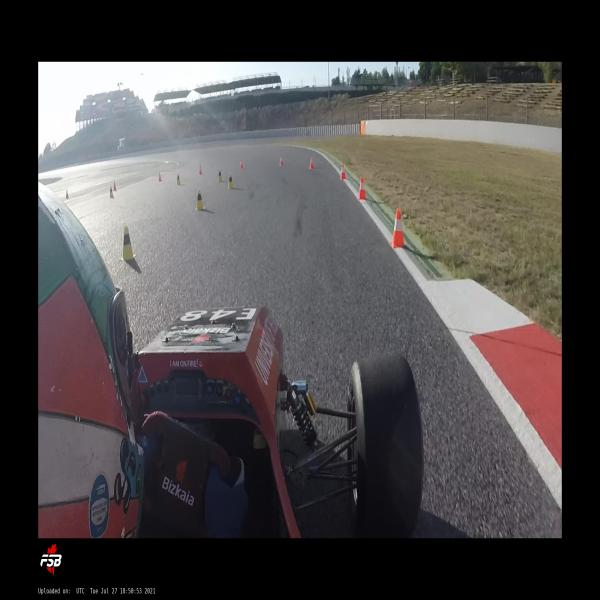orange_cone: (389, 208, 405, 249), (358, 177, 366, 200), (340, 164, 346, 179), (309, 157, 314, 169), (280, 155, 284, 166), (158, 172, 162, 182), (240, 158, 243, 169), (199, 164, 202, 174), (113, 182, 116, 192), (66, 189, 68, 199)
yellow_cone: (119, 224, 136, 260), (195, 188, 205, 210), (227, 172, 235, 189), (218, 170, 222, 182), (177, 174, 181, 186), (110, 186, 114, 198)
